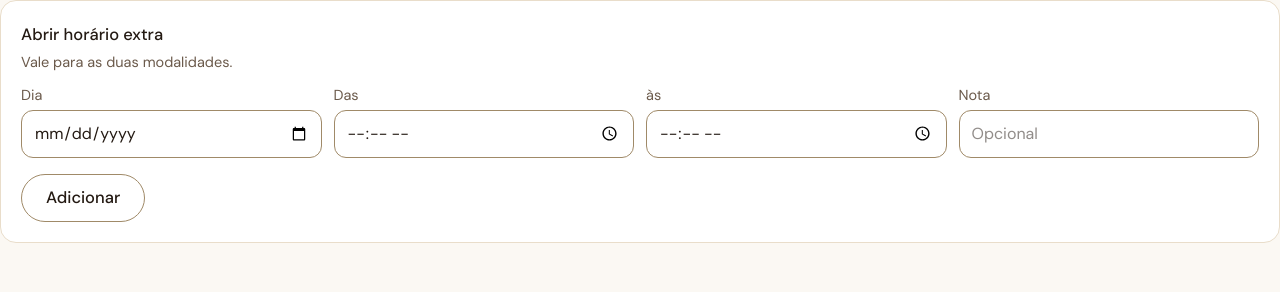
Test case: <FormExtra> › mostra erro devolvido pela action
Type "2026-09-27" into the date field labelled "Dia". click: (171, 134)
box: [21,110,322,158]
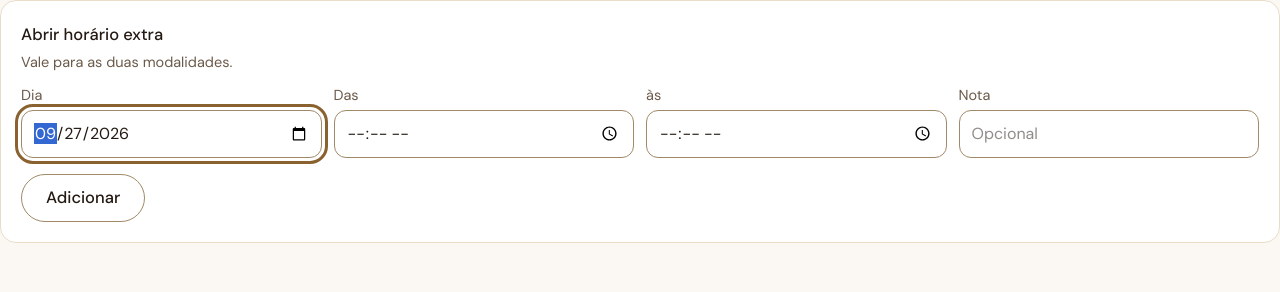
Type "08:00" into the time field labelled "Das". click: (484, 134)
box: [334,110,634,158]
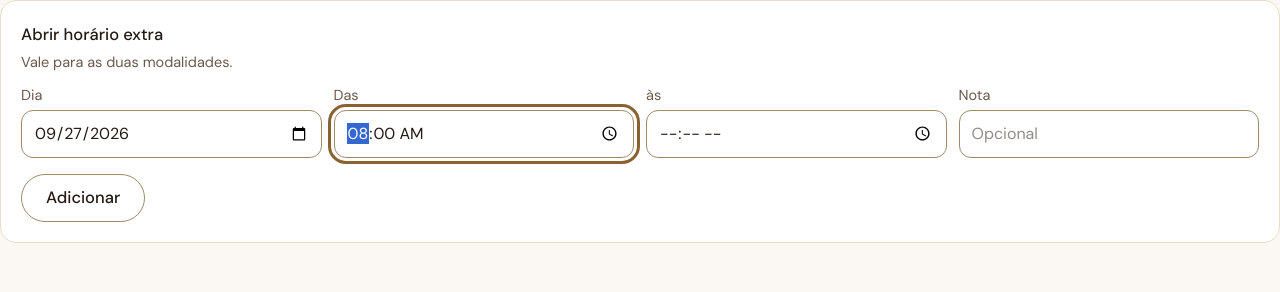
Type "10:00" into the time field labelled "às". click: (796, 134)
box: [646,110,946,158]
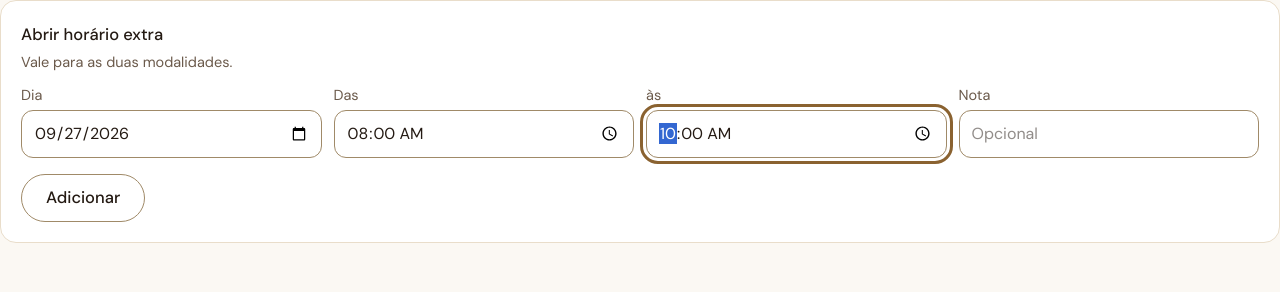
Click the button "Adicionar". click: (83, 198)
box: [21,174,145,222]
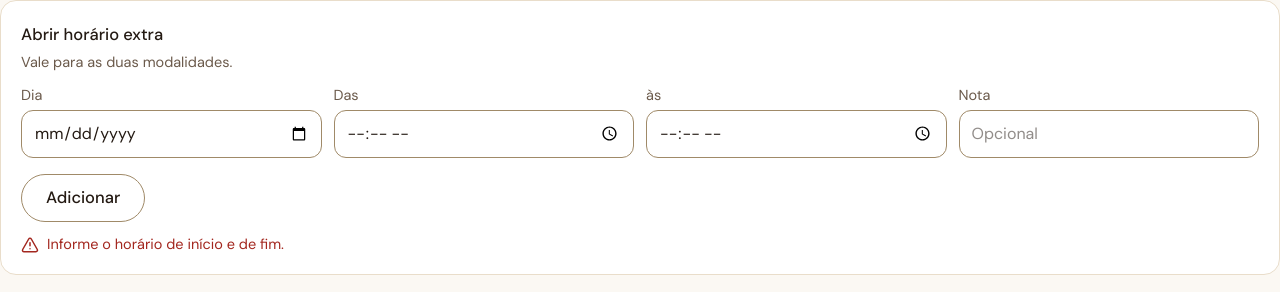
expect the message reads "Informe o horário de início e de fim.": met, box [47,235,284,253]
